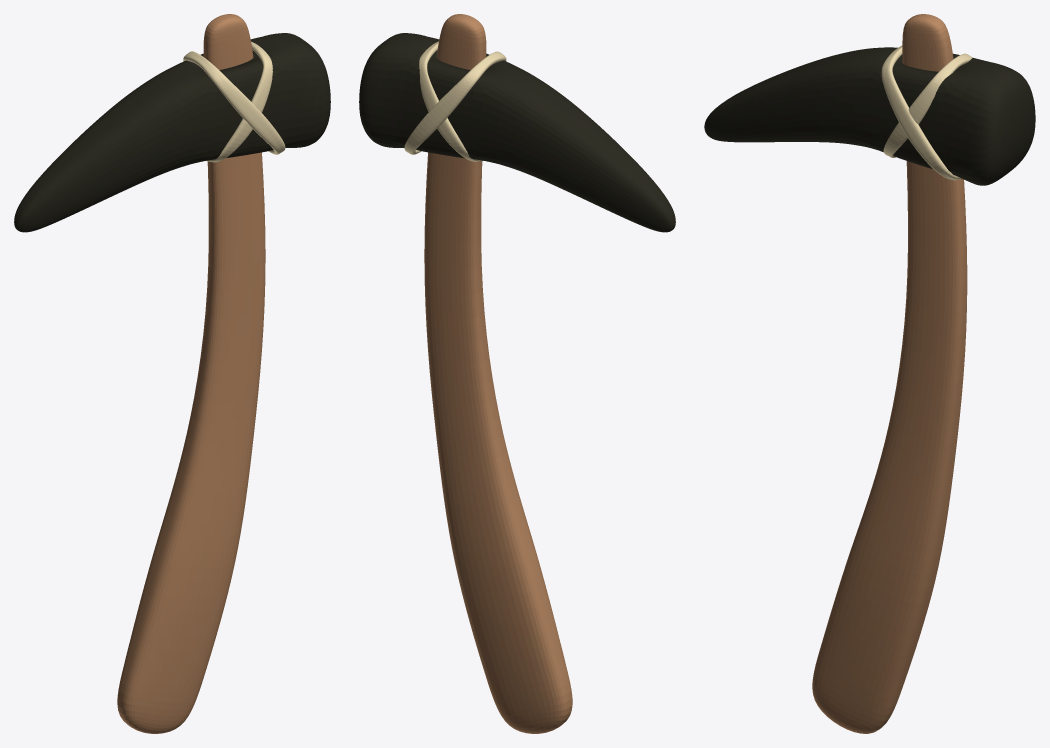
File: simple_pickaxe.fbx
3 views of the same model, side by side, from view 1: azimuth 30°, elevation 25°; view 2: azimuth 150°, elevation 25°; view 3: azimuth 330°, elevation 25° (orthographic). The views are drawn at different scales.
Visible parts, largest first — view 1: Plane.001; view 2: Plane.001; view 3: Plane.001.
Boxes of the visible parts, box(x1,y1,x2,y2) form: Plane.001: box(14, 14, 330, 733); Plane.001: box(359, 14, 675, 733); Plane.001: box(704, 14, 1035, 733).
Bounding box in the file's own units: 241 × 538 × 67.09.
